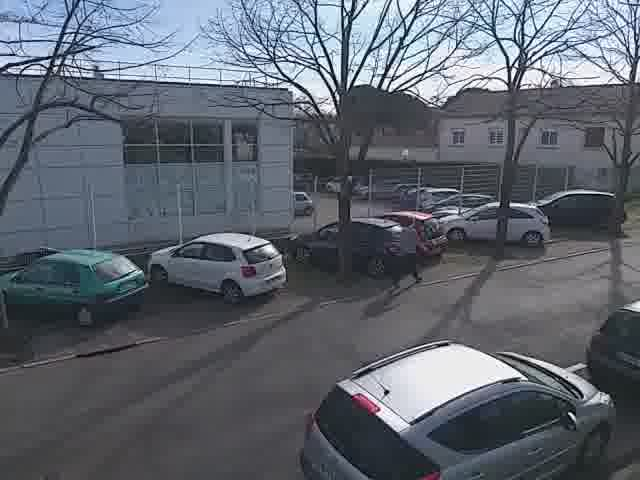persona: (390, 203, 428, 288)
